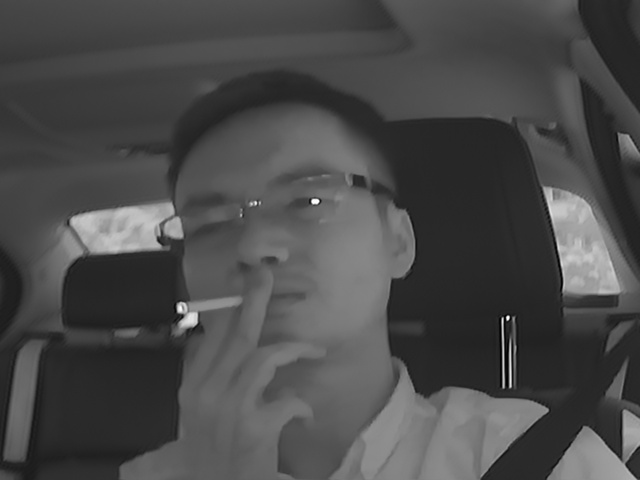hand: (188, 279, 318, 425)
